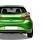car: (1, 1, 33, 36)
